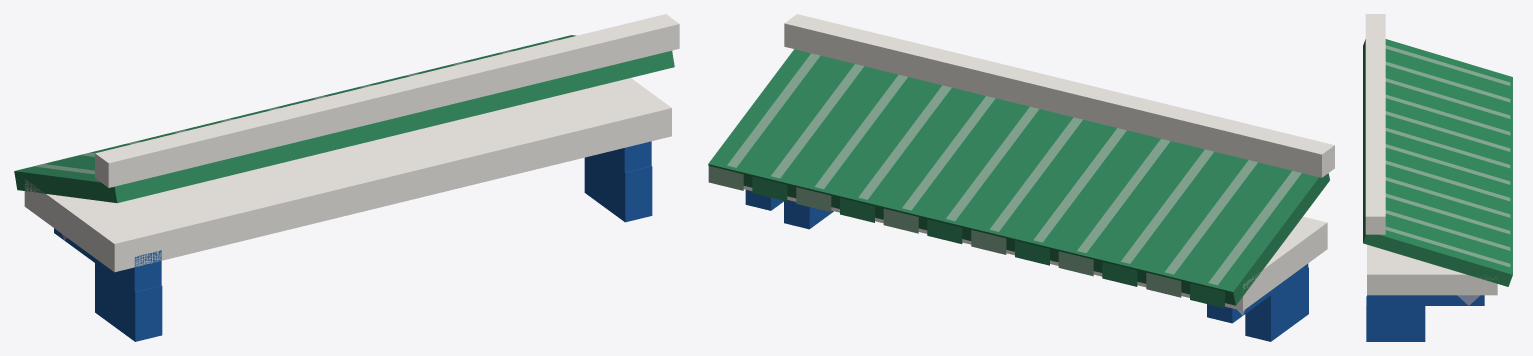
The model's file is hood_canopy.glb.
3 views of the same model, side by side, from view 1: azimuth 30°, elevation 25°; view 2: azimuth 150°, elevation 25°; view 3: azimuth 270°, elevation 25° (orthographic). The views are drawn at different scales.
Parts seen in each view (by area): view 1: hood_canopy; view 2: hood_canopy; view 3: hood_canopy.
Boxes of the visible parts, left/top/right/bottom form: hood_canopy: left=14, top=14, right=679, bottom=341; hood_canopy: left=708, top=14, right=1334, bottom=341; hood_canopy: left=1363, top=14, right=1512, bottom=341.
Bounding box in the file's own units: 1.69 × 0.525 × 0.5492.
